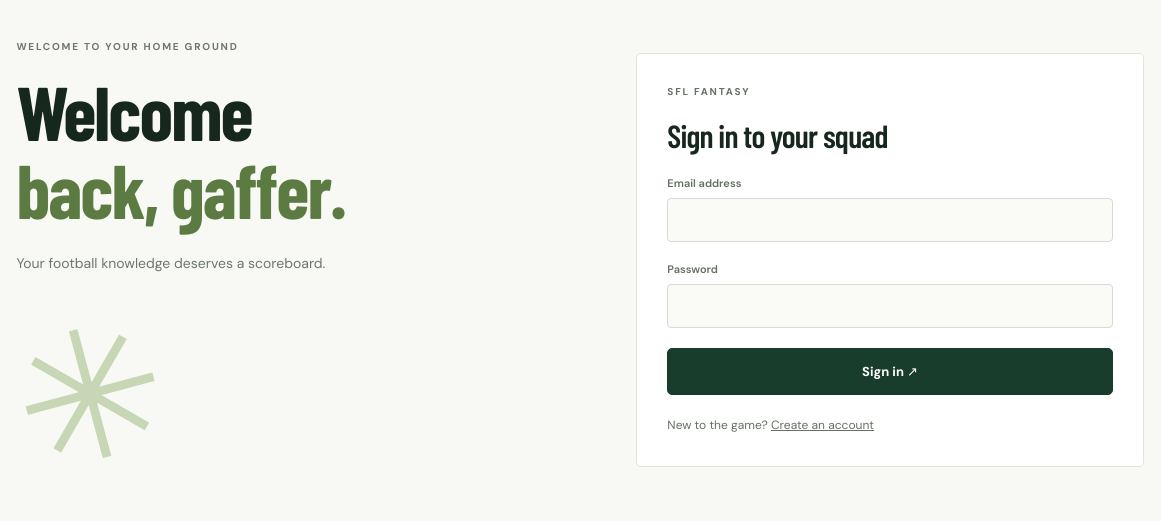
Test: login shows server validation errors and re-enables submit
The width and height of the screenshot is (1161, 521).
Type "manager@example.test" into the field labelled "Email address" at (890, 220), box [667,198,1113,242]
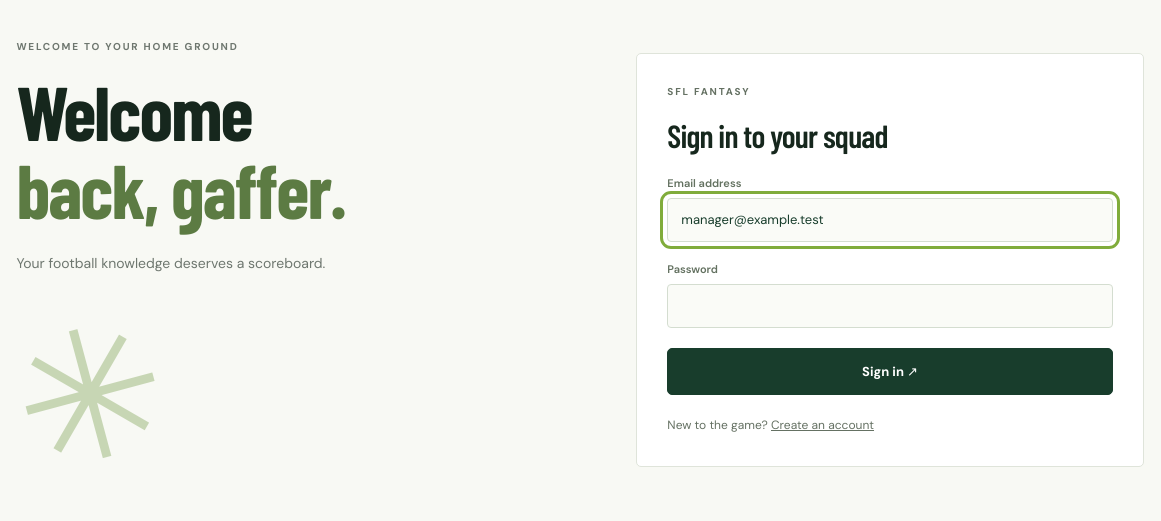
Type "wrong-password" into the password field labelled "Password" at (890, 306), box [667,284,1113,328]
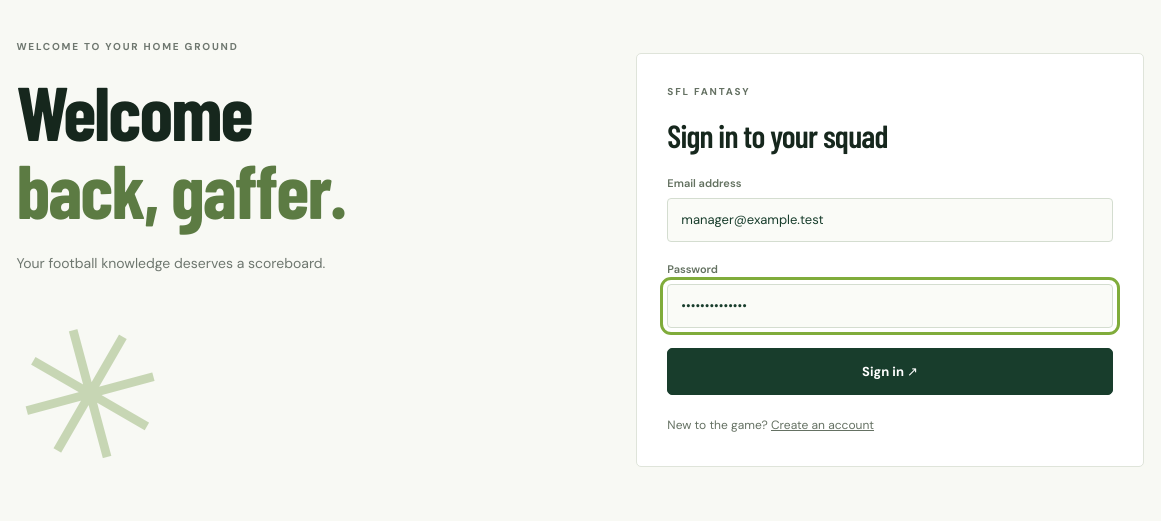
Click the button "Sign in ↗" at (890, 371), box [667,348,1113,395]
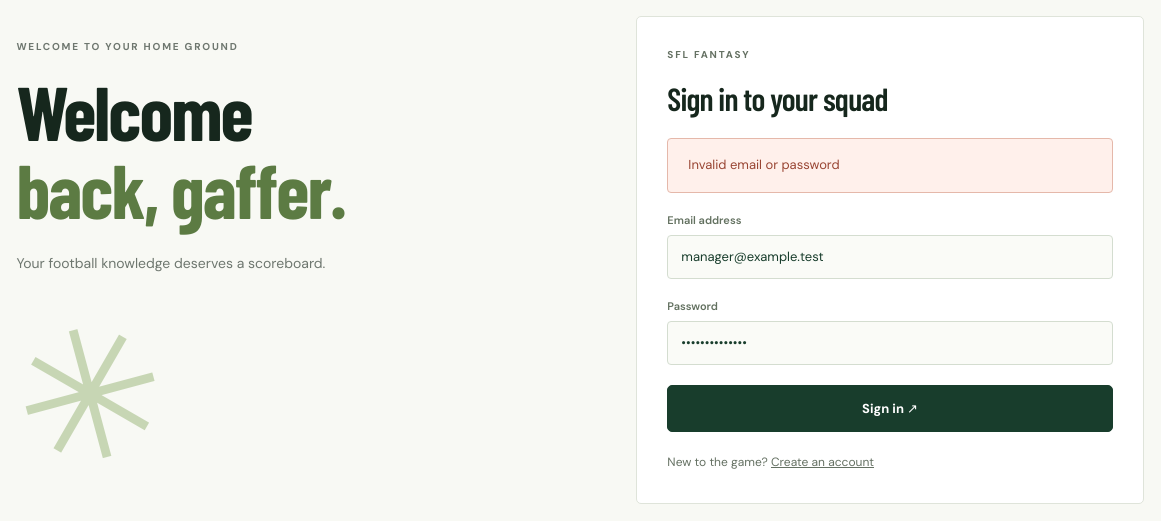
Expected: the button "Sign in ↗" is enabled, [667,385,1113,432]
Result: the message reads "Invalid email or password" at [688,156,840,173]
